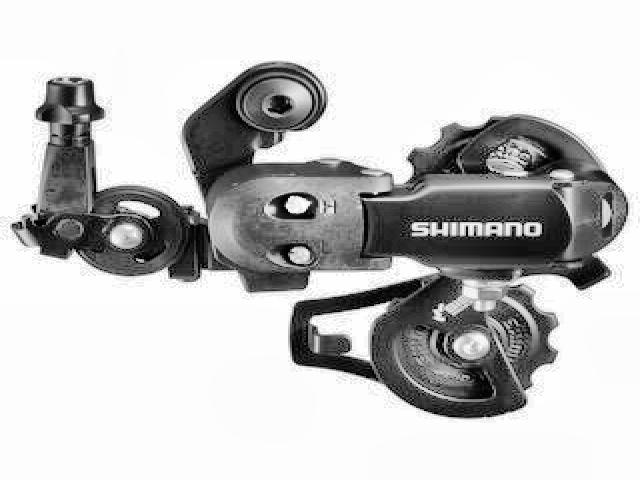rear_derailleur: (7, 54, 635, 428)
